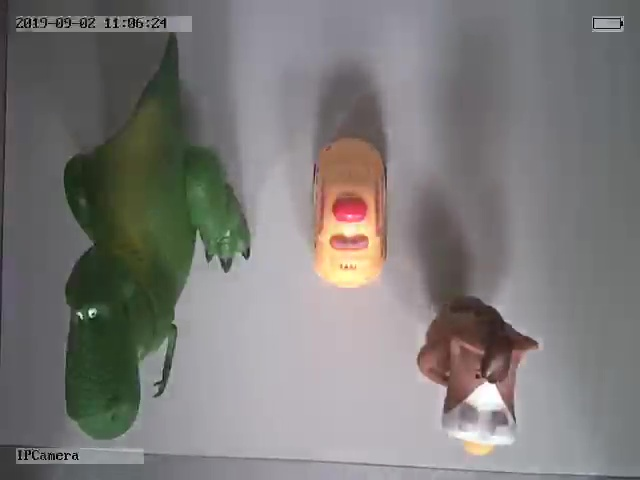car: (313, 135, 388, 287)
horse: (416, 294, 541, 457)
rex: (62, 58, 251, 444)
